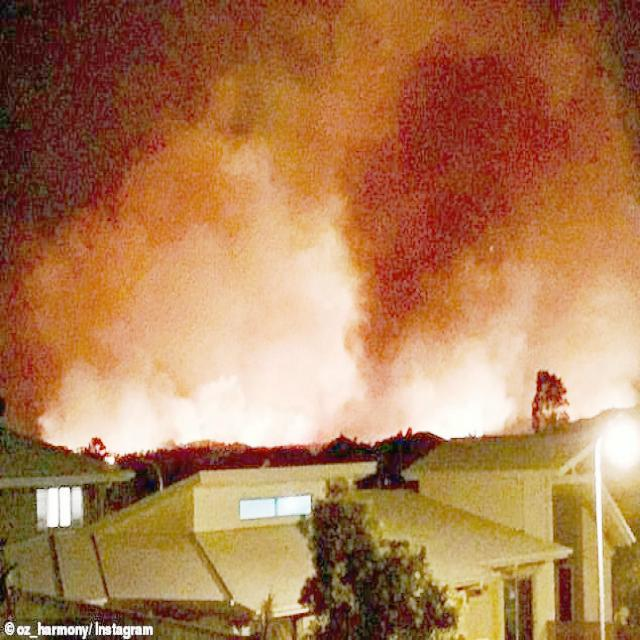asap: (1, 1, 379, 450), (311, 1, 640, 449)
